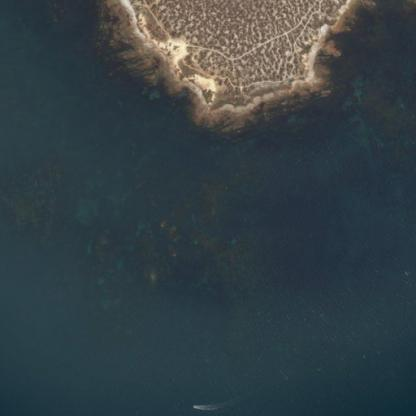ship: (190, 398, 202, 412)
